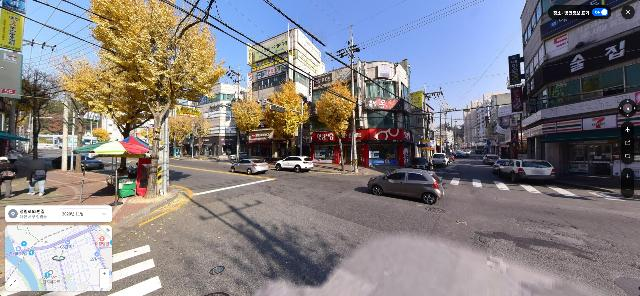ginkgo: (52, 0, 227, 199), (263, 72, 312, 156), (316, 75, 358, 171), (229, 96, 264, 158), (170, 110, 211, 159), (170, 110, 195, 158), (191, 115, 211, 159)
other: (20, 70, 69, 159)
